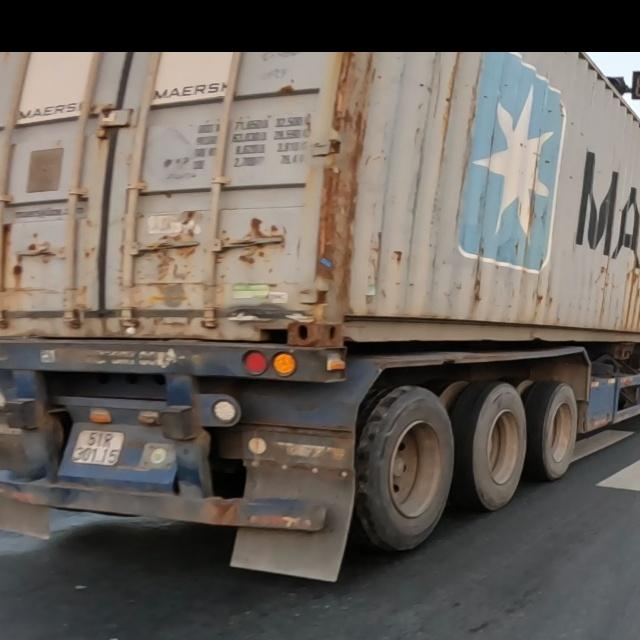license-plate: (68, 426, 127, 469)
